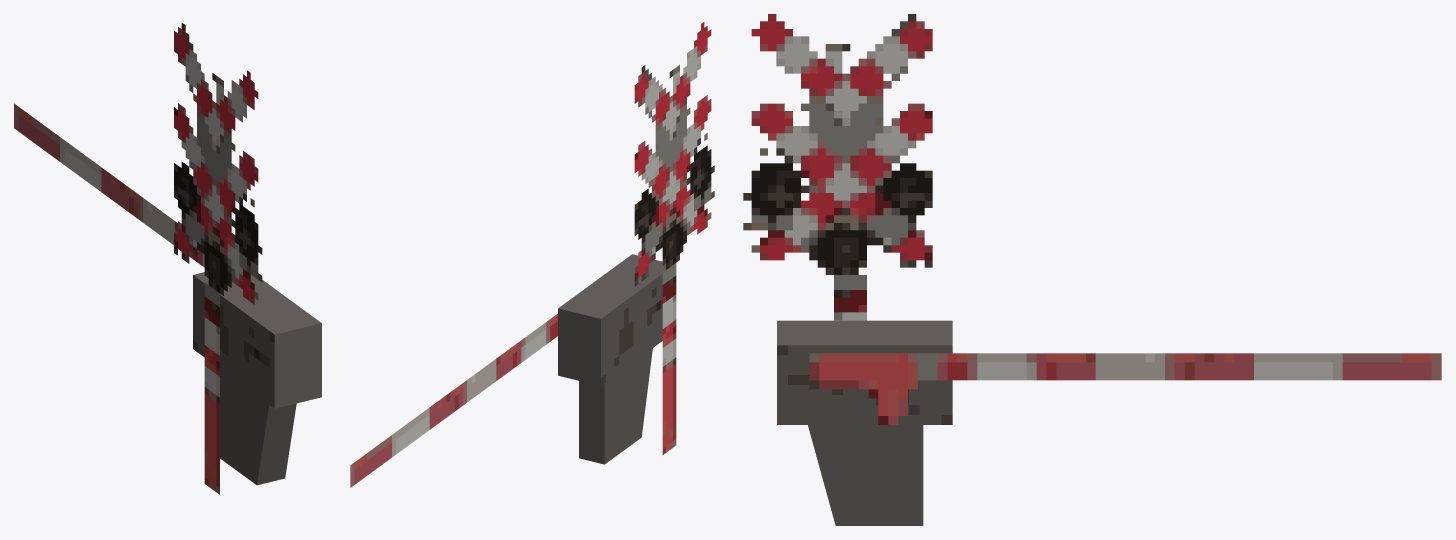
Rendered from oversteek.glb.
The picture shows the model from 3 angles, left to right: view 1: azimuth 30°, elevation 25°; view 2: azimuth 150°, elevation 25°; view 3: azimuth 270°, elevation 25°; orthographic projection. The views are drawn at different scales.
Parts seen in each view (by area): view 1: overweg, Cube.001, Plane; view 2: Cube.001, overweg, Plane; view 3: overweg, Cube.001, Plane.
Boxes of the visible parts, box(x1,y1,x2,y2) form: overweg: box(174, 22, 262, 494); Cube.001: box(193, 272, 321, 485); Plane: box(14, 103, 204, 267); Cube.001: box(558, 254, 665, 464); overweg: box(634, 22, 714, 454); Plane: box(350, 313, 557, 487); overweg: box(743, 14, 932, 320); Cube.001: box(777, 320, 952, 525); Plane: box(809, 353, 1441, 424).
Size of the model in its own units: 0.5425 by 3 by 3.97.
Materials: 1 (1 with a texture image).
